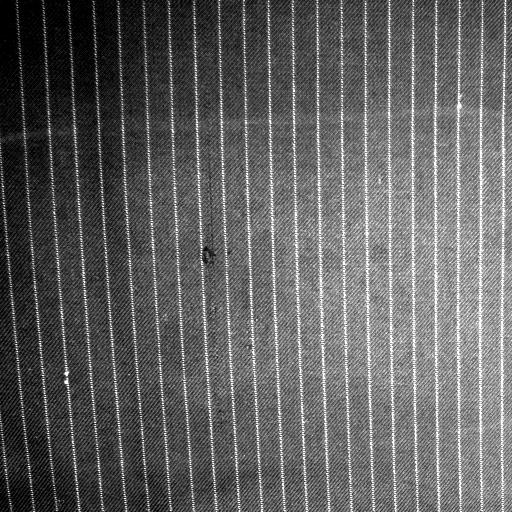fabric_hole: (195, 238, 223, 274)
